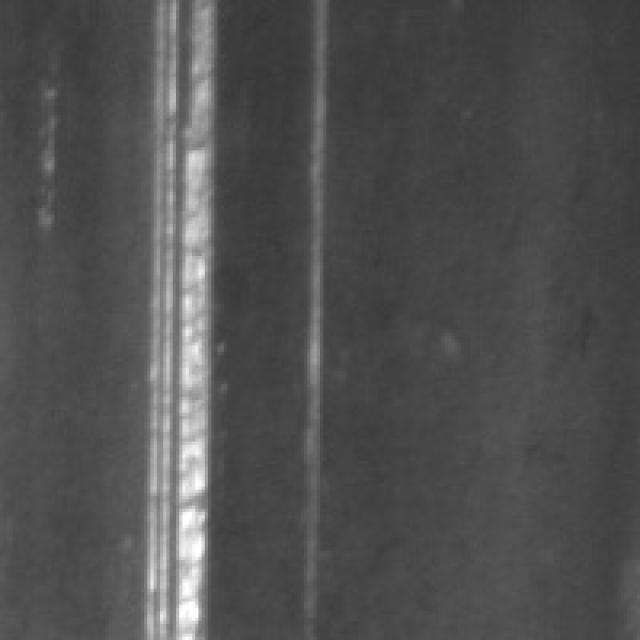scratches: (128, 0, 221, 634), (288, 0, 336, 634)
